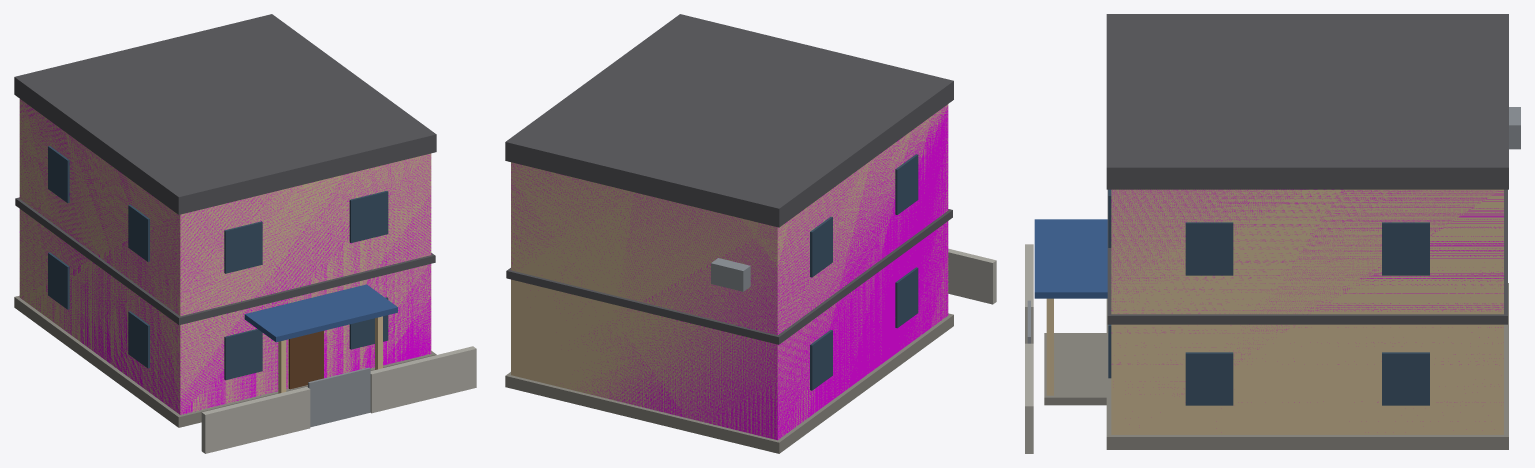
File: House_2S_03.glb
The picture shows the model from 3 angles, left to right: view 1: azimuth 30°, elevation 25°; view 2: azimuth 150°, elevation 25°; view 3: azimuth 270°, elevation 25°; orthographic projection. The views are drawn at different scales.
Visible parts, largest first — view 1: House_2S_03, House_2S_03_COL; view 2: House_2S_03, House_2S_03_COL; view 3: House_2S_03, House_2S_03_COL.
Boxes of the visible parts, bbox=[...] form: House_2S_03: bbox=[14, 14, 476, 453]; House_2S_03_COL: bbox=[19, 99, 431, 414]; House_2S_03: bbox=[505, 14, 996, 453]; House_2S_03_COL: bbox=[511, 105, 948, 440]; House_2S_03: bbox=[1025, 14, 1520, 453]; House_2S_03_COL: bbox=[1111, 189, 1503, 402].
Size of the model in its own units: 8 by 6.5 by 10.35.
